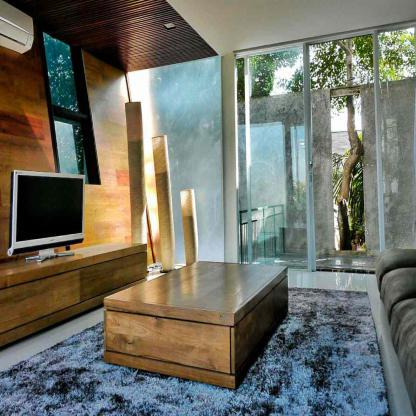meja: (102, 248, 292, 385)
tv: (11, 170, 85, 249)
